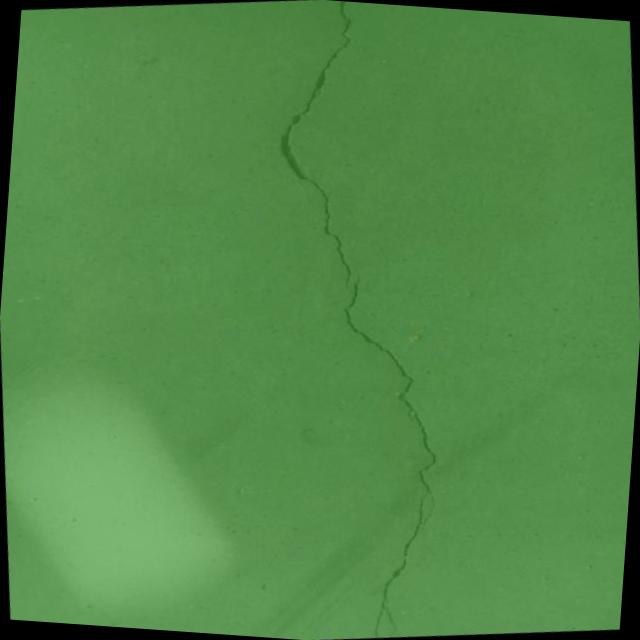crack: (232, 0, 489, 640)
